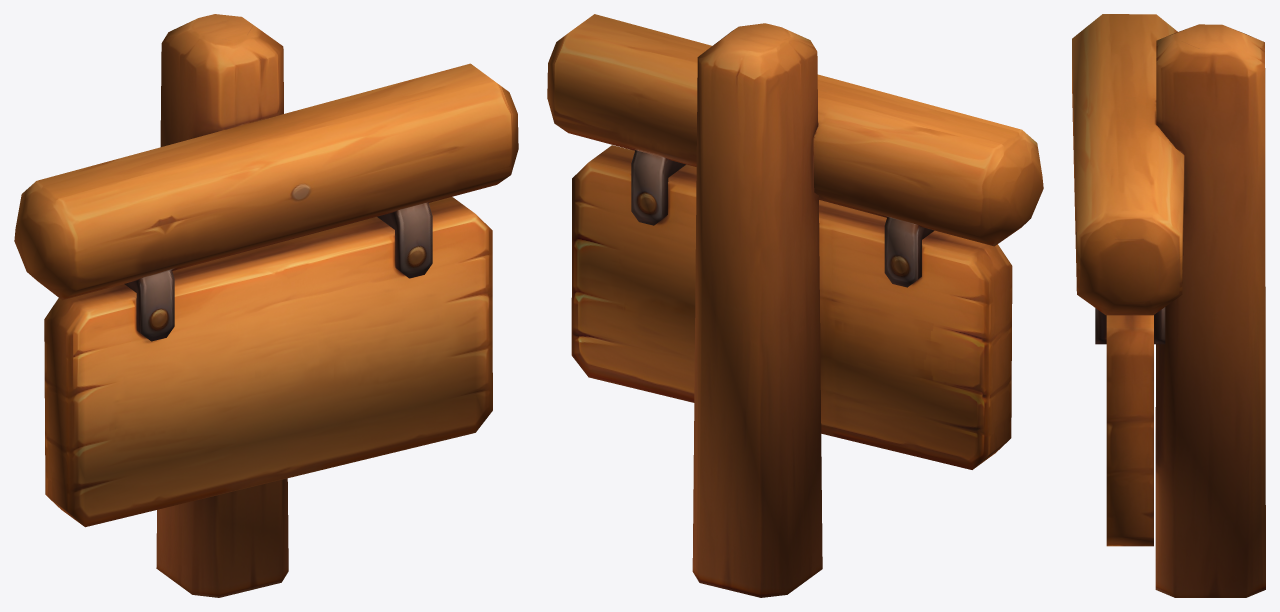
The model's file is owner.glb.
The picture shows the model from 3 angles, left to right: view 1: azimuth 30°, elevation 25°; view 2: azimuth 150°, elevation 25°; view 3: azimuth 270°, elevation 25°; orthographic projection.
Parts seen in each view (by area): view 1: owner; view 2: owner; view 3: owner.
Part boxes in pixels (x1,y1,x2,y2): owner: [14, 14, 518, 597]; owner: [547, 14, 1043, 597]; owner: [1072, 14, 1265, 597].
Size of what is drawn, in the model's own units: 1.72 by 1.88 by 0.6139.
1 material, 1 textured.
